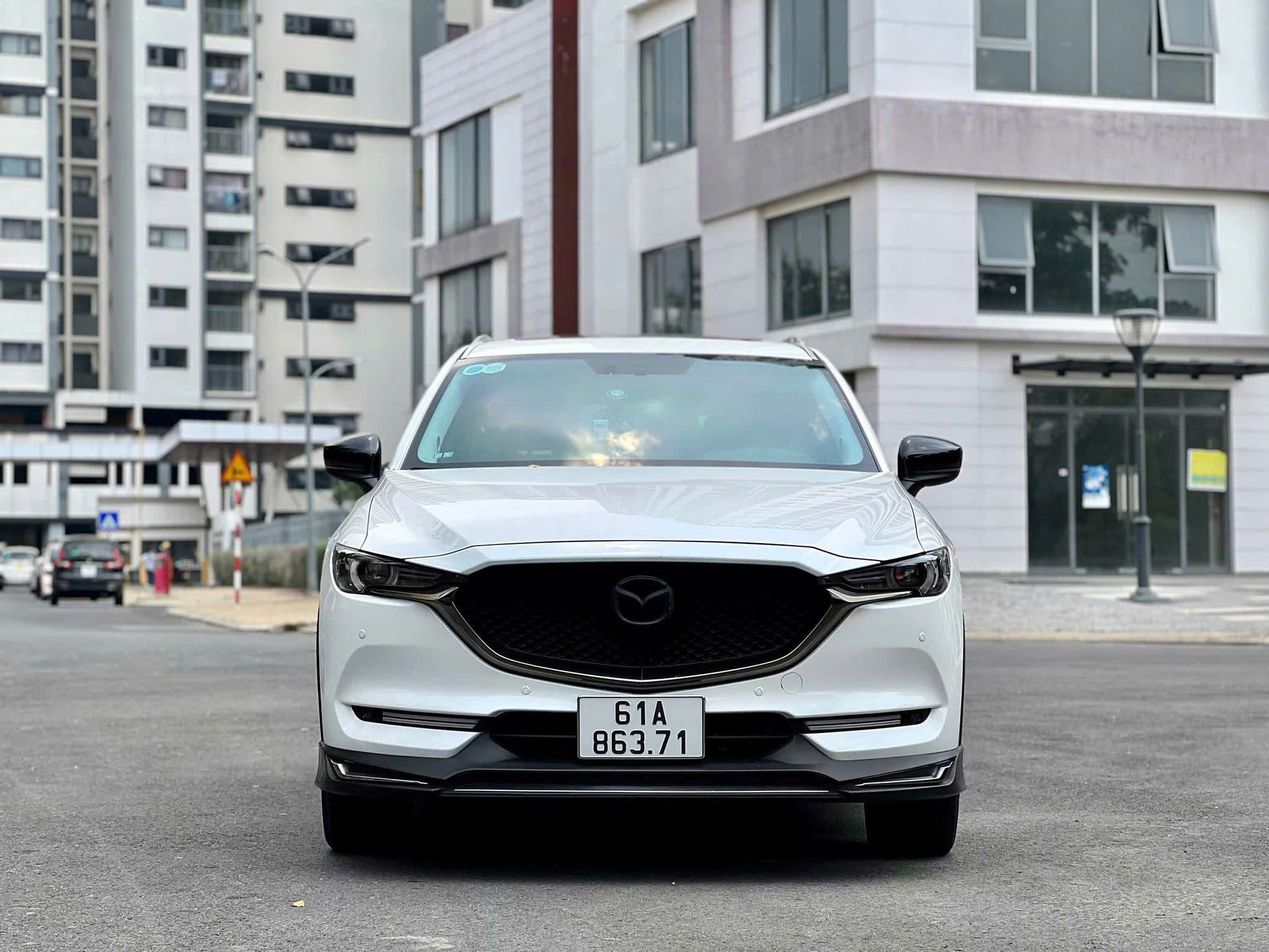Bien-so: (578, 692, 712, 761)
